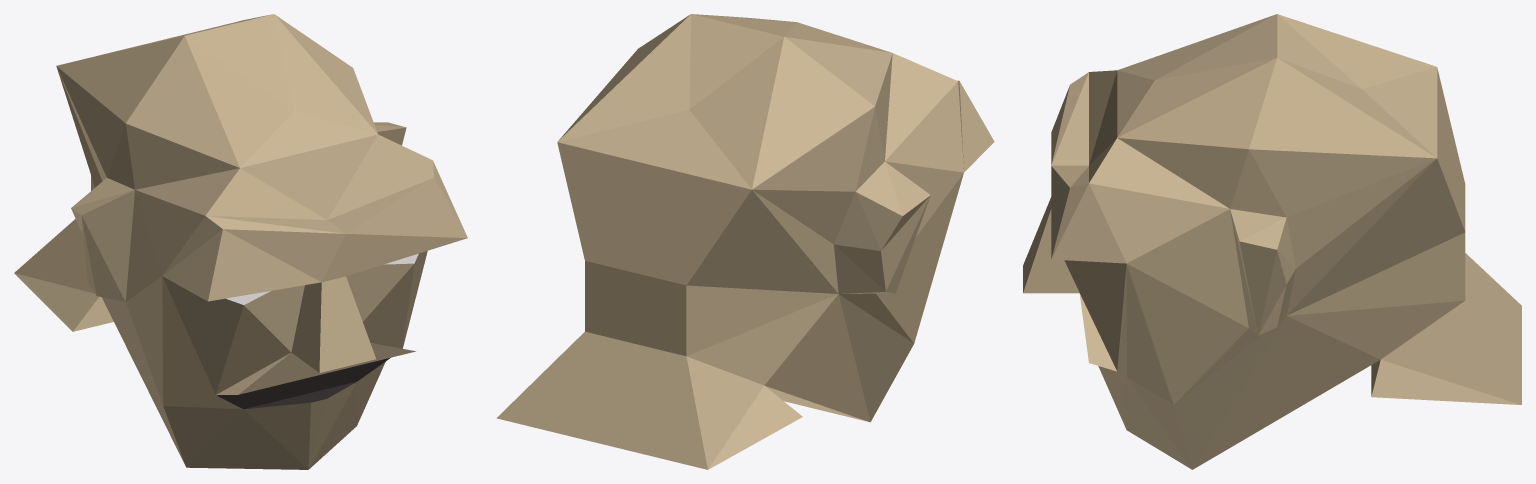
Rendered from model_2874_npc.obj.
The picture shows the model from 3 angles, left to right: view 1: azimuth 30°, elevation 25°; view 2: azimuth 150°, elevation 25°; view 3: azimuth 270°, elevation 25°; orthographic projection. The views are drawn at different scales.
Parts seen in each view (by area): view 1: 2874; view 2: 2874; view 3: 2874.
Boxes of the visible parts, x1,y1,x2,y2 form: 2874: [14, 14, 467, 469]; 2874: [496, 14, 994, 469]; 2874: [1023, 14, 1521, 469].
Size of the model in its own units: 40 by 46 by 53.
